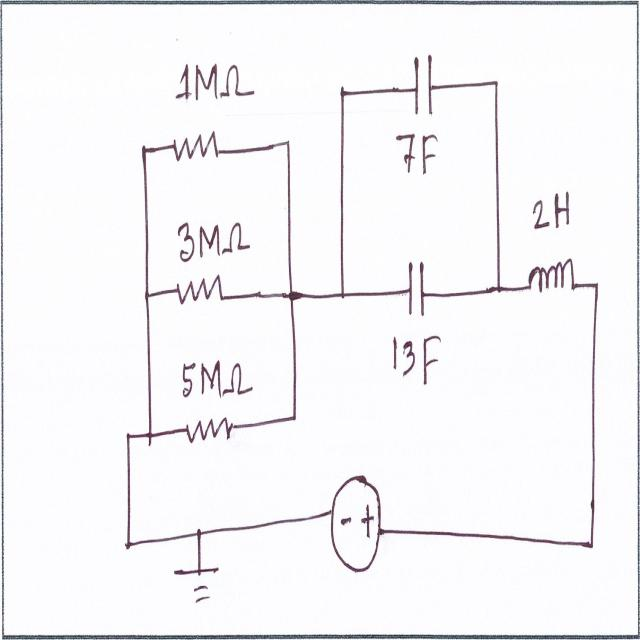ground: (170, 557, 223, 610)
inductor: (523, 252, 579, 306)
resistor: (178, 405, 236, 453), (168, 268, 228, 314), (169, 126, 224, 168)
voltage_source: (324, 466, 386, 582), (410, 38, 437, 119), (403, 256, 431, 326)
